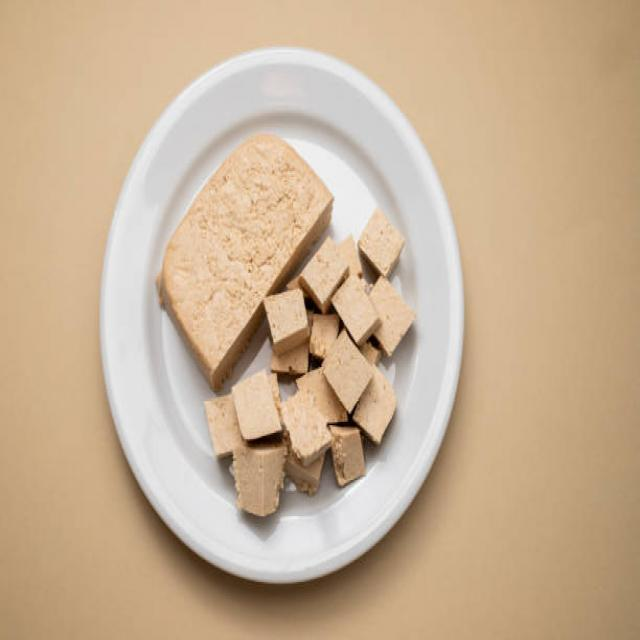Tofu Block: (321, 332, 373, 414), (234, 445, 290, 518), (281, 383, 331, 464), (231, 370, 281, 446), (357, 207, 405, 276), (302, 234, 346, 308), (264, 286, 310, 352), (328, 424, 367, 487)
